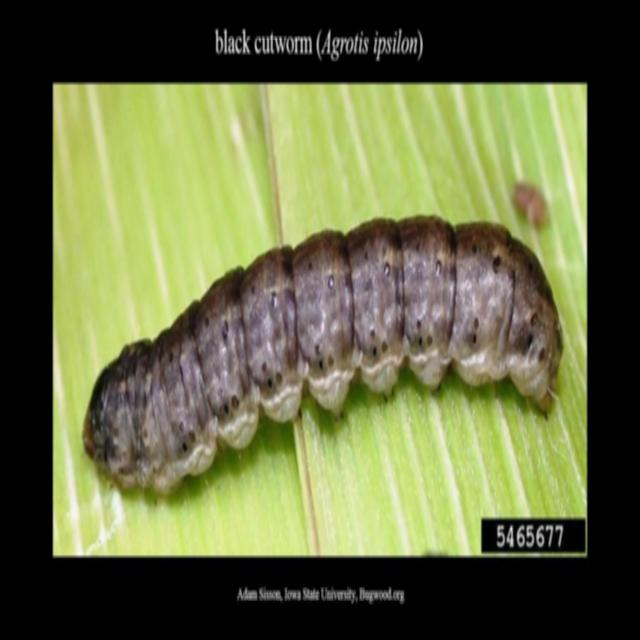black cutworm: (79, 202, 559, 491)
